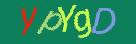D: (91, 8, 115, 33)
Y: (57, 5, 76, 31)
g: (73, 9, 91, 38)
p: (36, 10, 63, 33)
y: (20, 7, 37, 34)
